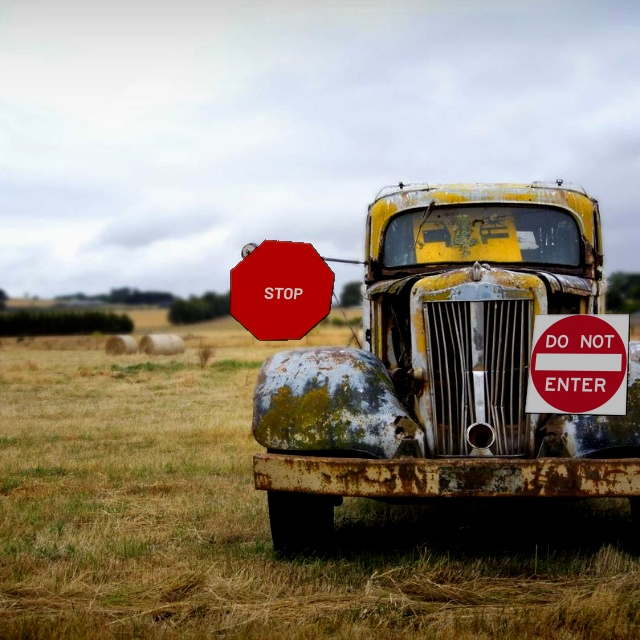DO_NOT_ENTER: (524, 313, 630, 416)
STOP: (229, 239, 335, 341)
